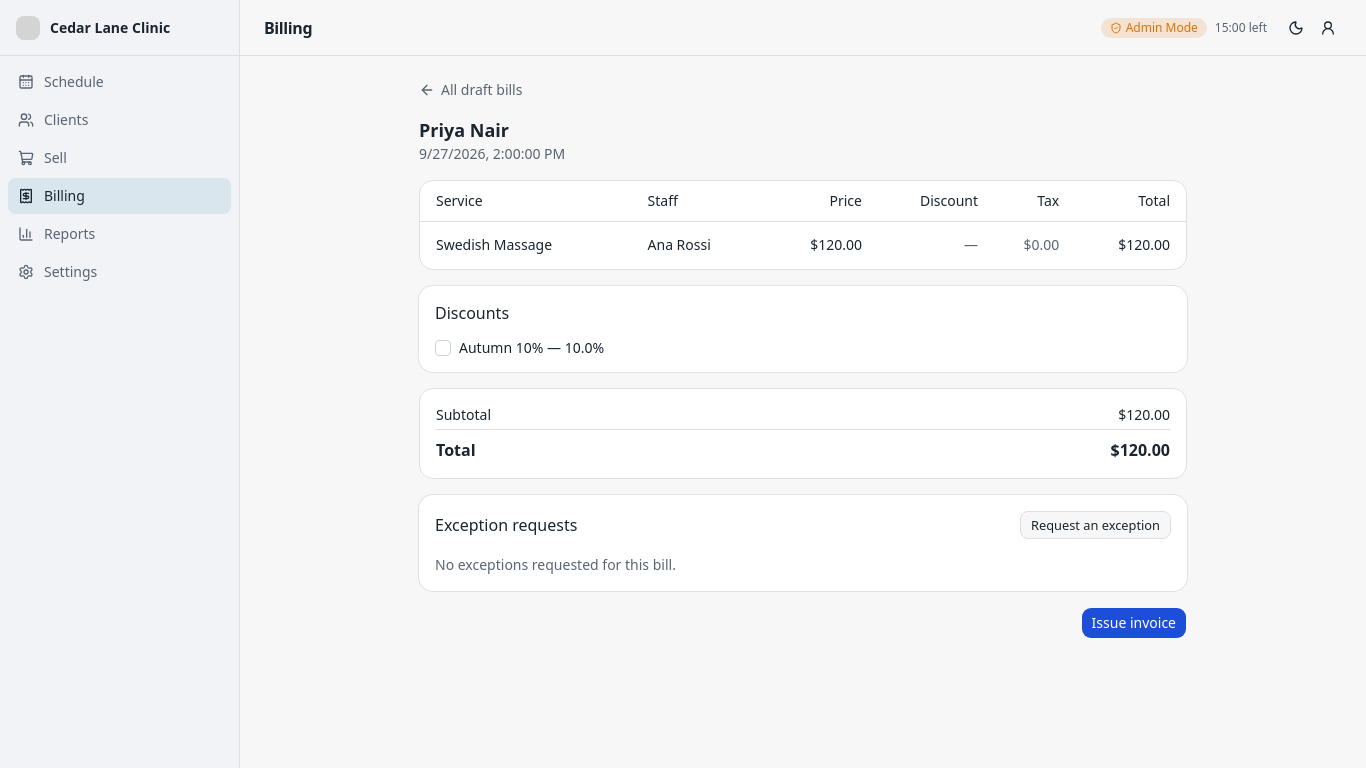
Scenario: an admin/owner reviewing can approve a pending request
Click the button "Request an exception".
click(1096, 525)  # box [1020, 511, 1171, 539]
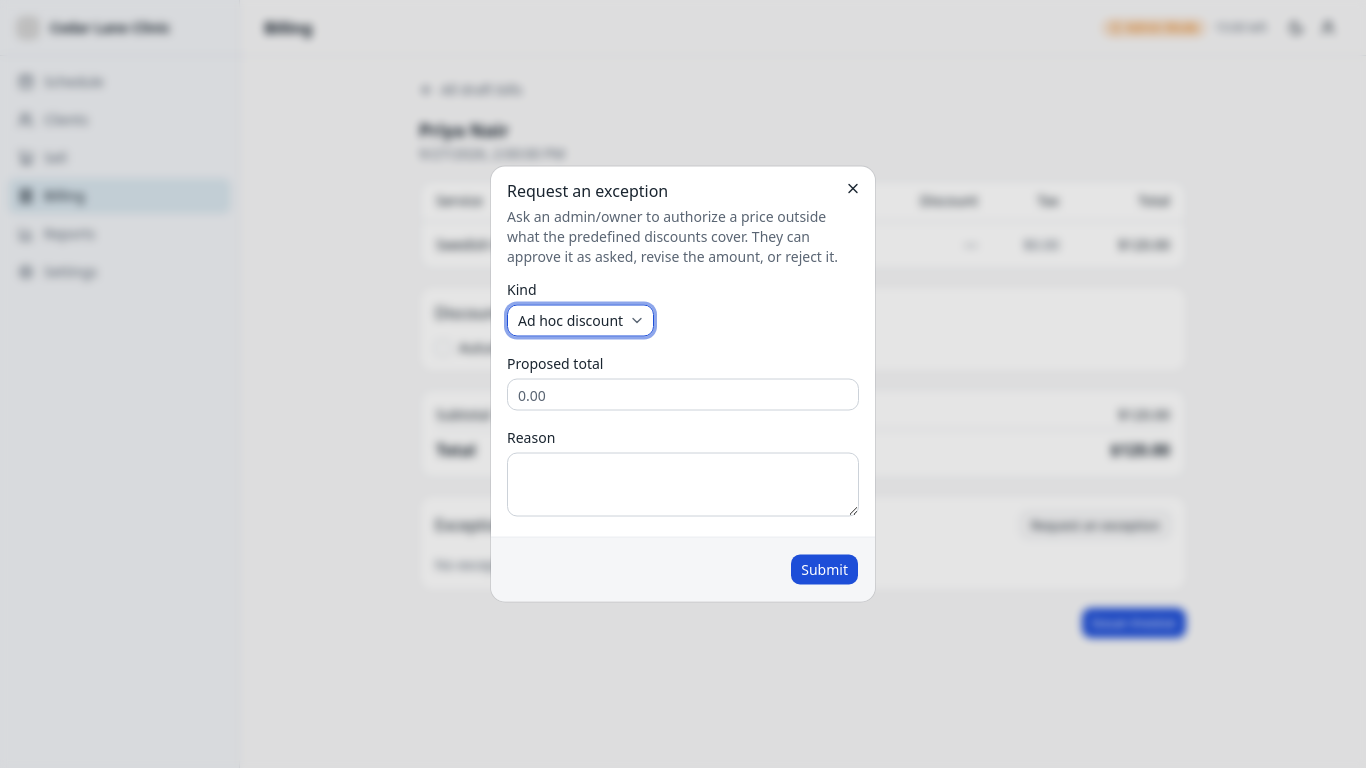
Type "95" into the field labelled "Proposed total".
click(683, 394); type("95")  # box [507, 378, 859, 410]
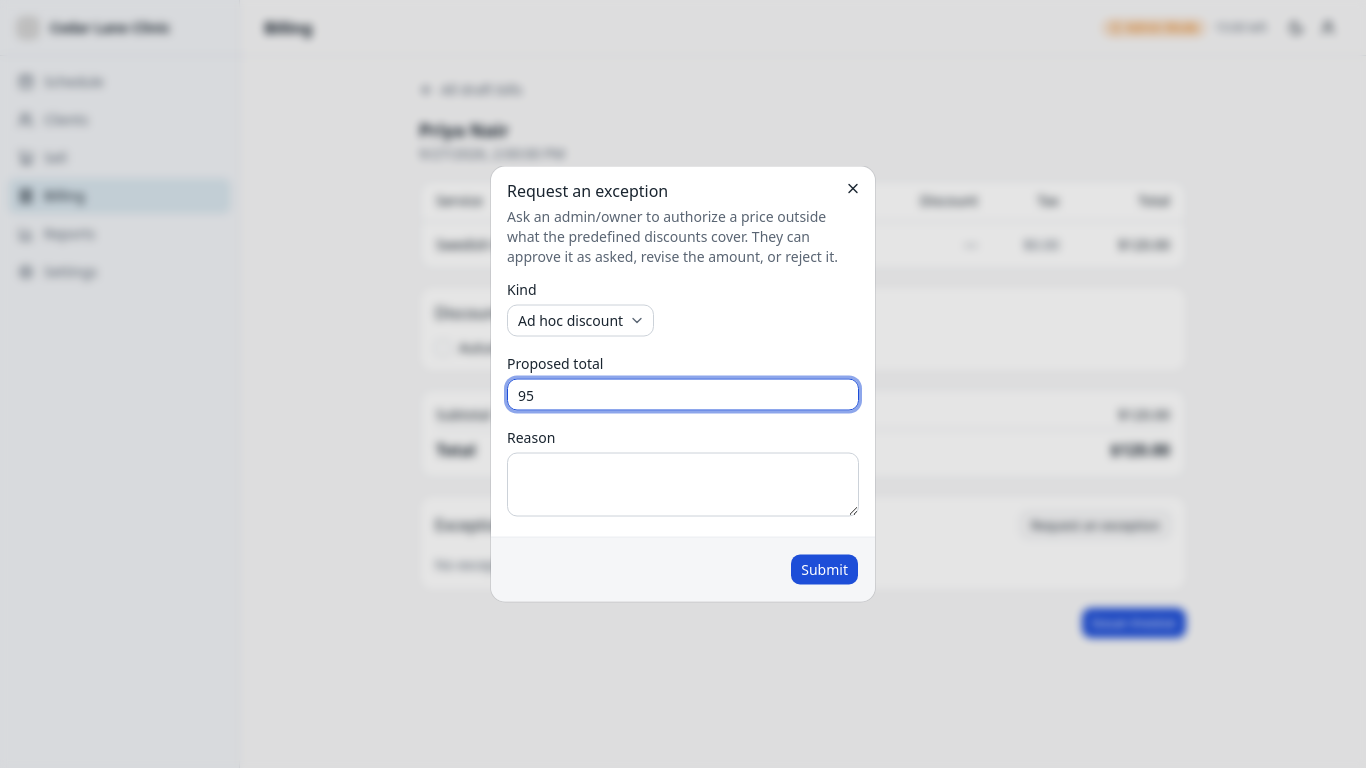
Type "Goodwill" into the text box labelled "Reason".
click(683, 484); type("Goodwill")  # box [507, 452, 859, 516]
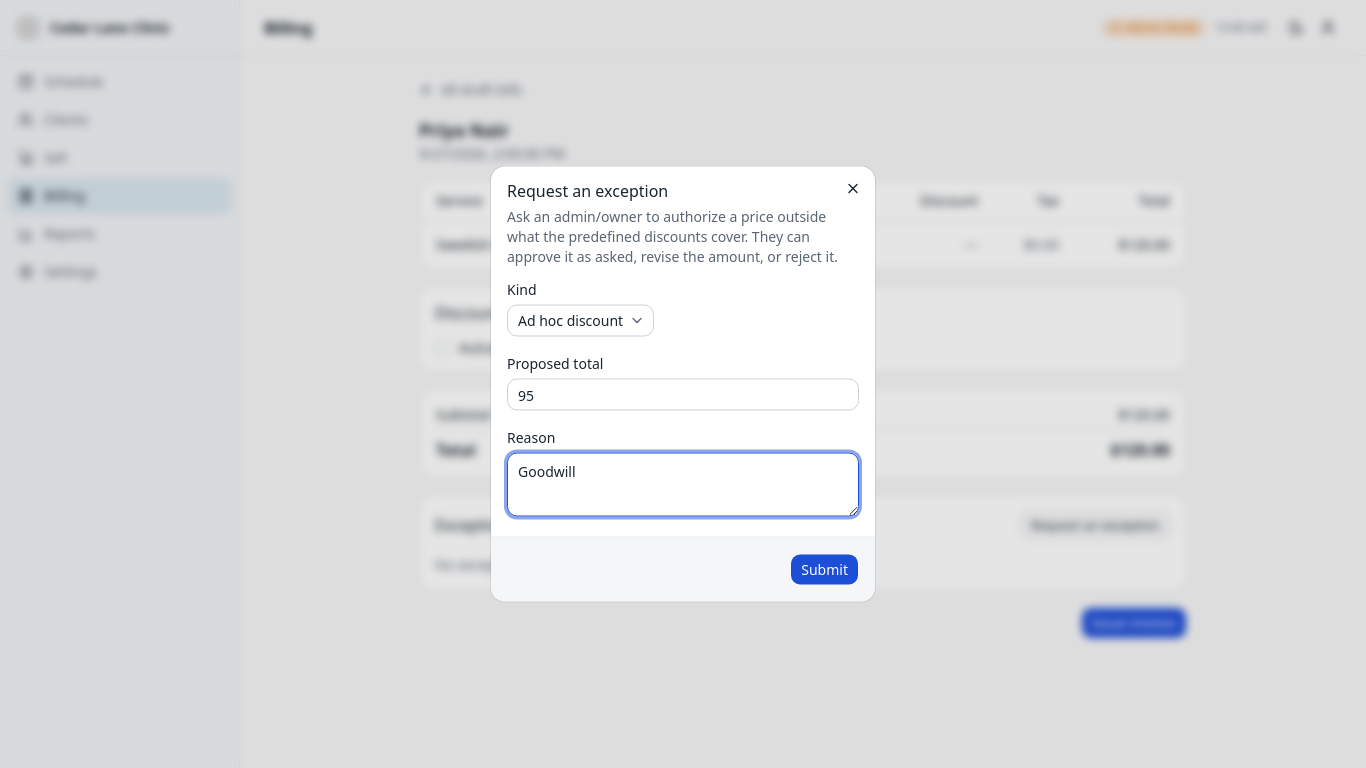
Click the button "Submit".
click(825, 570)  # box [790, 554, 859, 586]
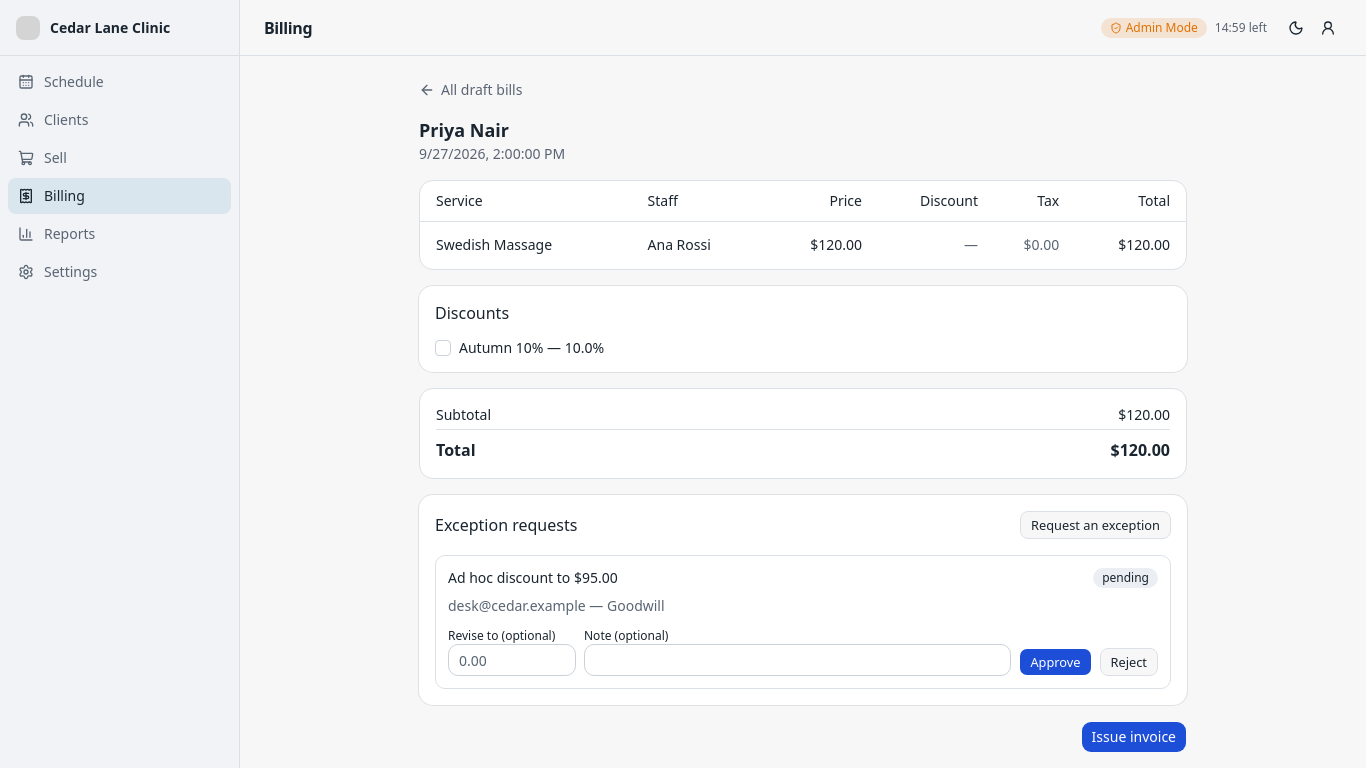
Expected: the text "pending" is shown, [1093, 568, 1158, 588]
Click the button "Approve".
click(1056, 662)  # box [1019, 648, 1092, 676]
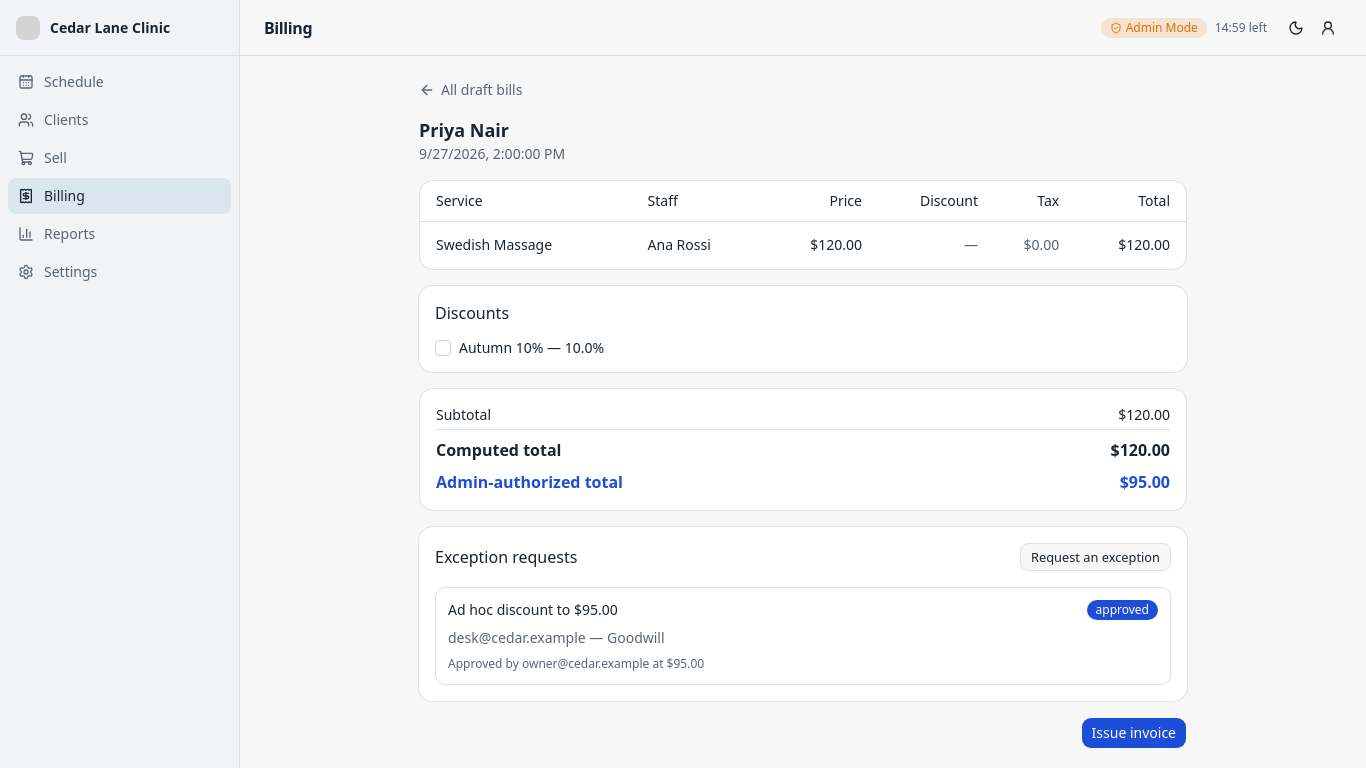
Expected: the text "approved" is shown, [1086, 600, 1158, 620]
Expected: the text "Admin-authorized total" is shown, [436, 470, 623, 494]
